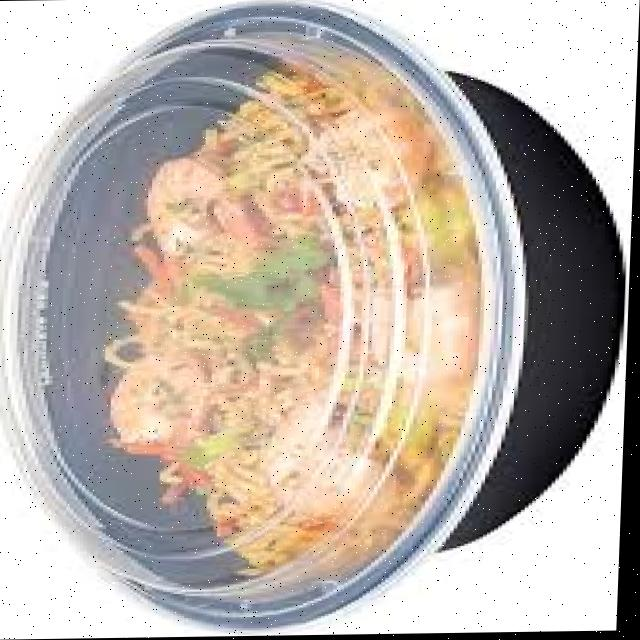disposable: (0, 0, 633, 636)
